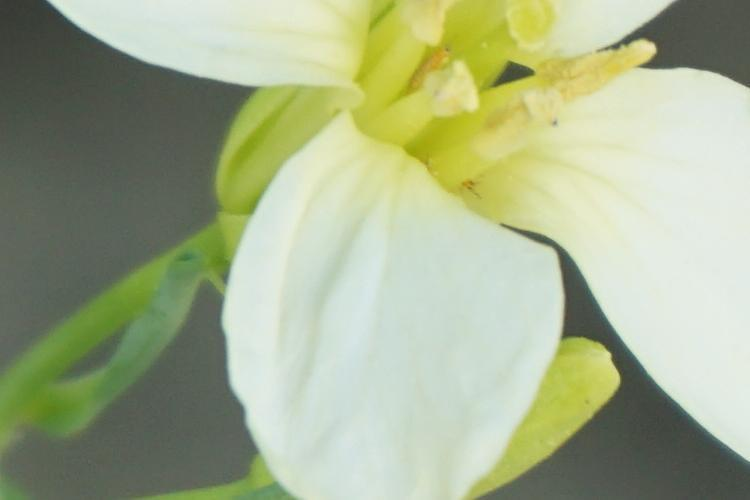white: (77, 7, 748, 487)
